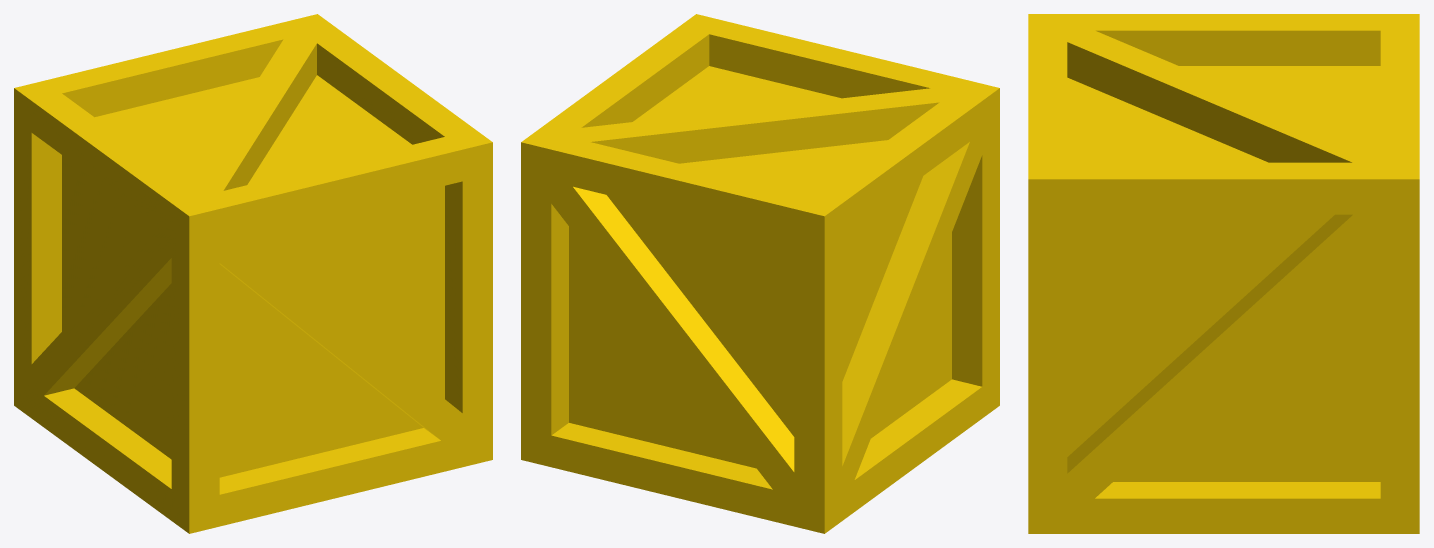
Rendered from boxA.fbx.
The picture shows the model from 3 angles, left to right: view 1: azimuth 30°, elevation 25°; view 2: azimuth 150°, elevation 25°; view 3: azimuth 270°, elevation 25°; orthographic projection. The views are drawn at different scales.
Visible parts, largest first — view 1: Cube; view 2: Cube; view 3: Cube.
Boxes of the visible parts, <box> form: Cube: <box>14,14,492,533</box>; Cube: <box>521,14,999,533</box>; Cube: <box>1028,14,1419,533</box>.
Size of the model in its own units: 200 by 200 by 200.
